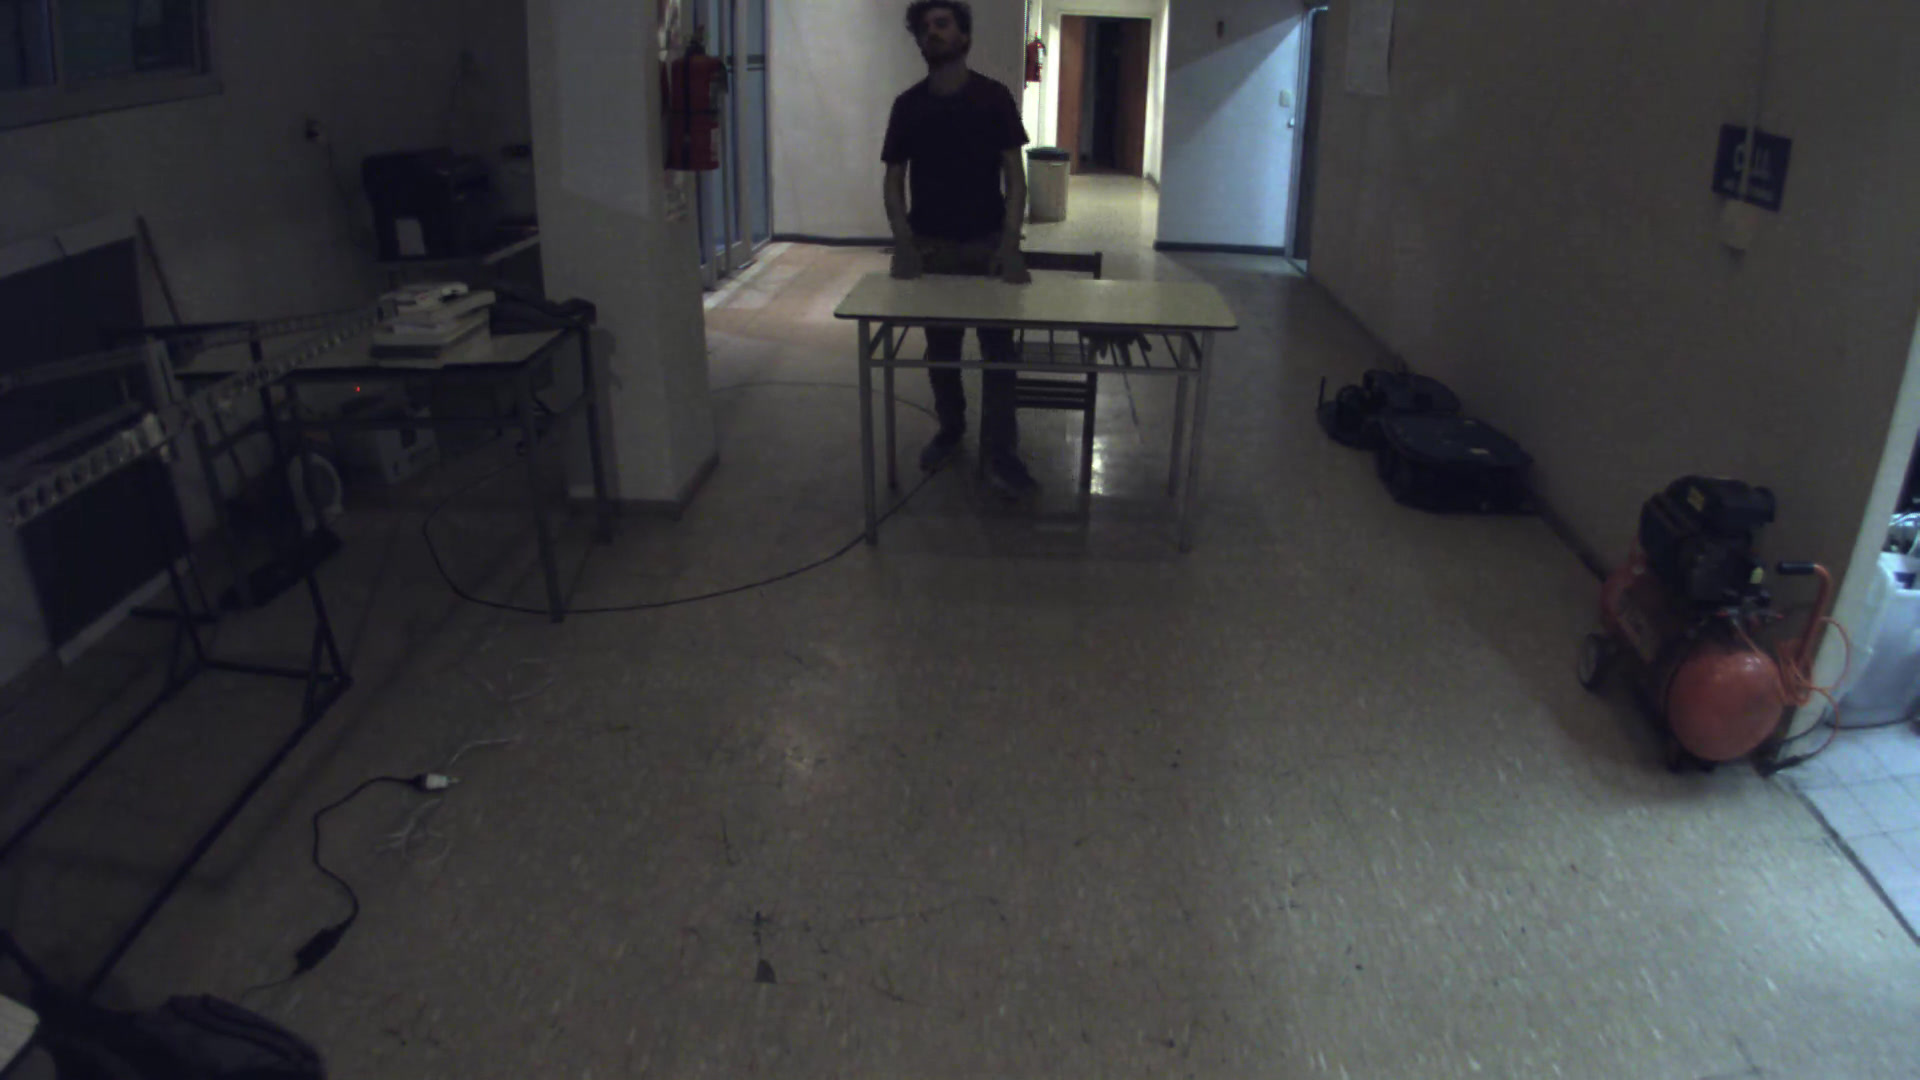hand: (978, 237, 1036, 287), (885, 236, 938, 284)
